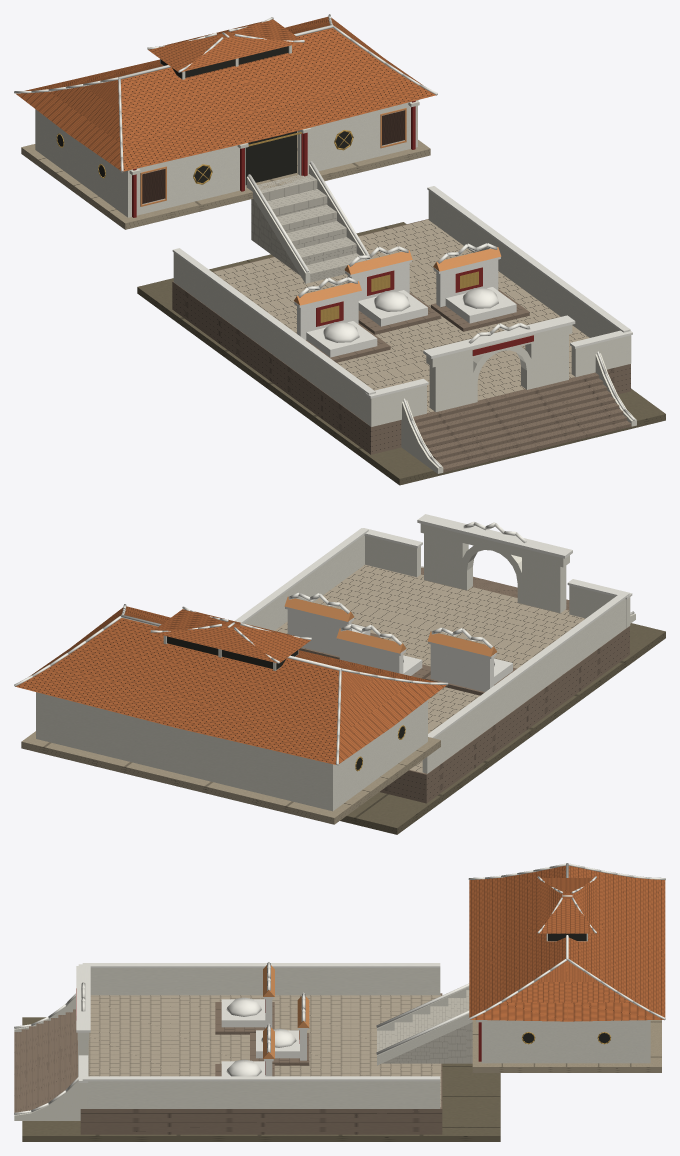
The model's file is thoai-ngoc-hau-mid.glb.
The picture shows the model from 3 angles, top to bottom: view 1: azimuth 30°, elevation 25°; view 2: azimuth 150°, elevation 25°; view 3: azimuth 270°, elevation 25°; orthographic projection. The views are drawn at different scales.
Visible parts, largest first — view 1: thoai-ngoc-hau-mid; view 2: thoai-ngoc-hau-mid; view 3: thoai-ngoc-hau-mid.
Boxes of the visible parts, bbox=[...] form: thoai-ngoc-hau-mid: bbox=[14, 14, 665, 485]; thoai-ngoc-hau-mid: bbox=[14, 514, 665, 834]; thoai-ngoc-hau-mid: bbox=[14, 863, 665, 1141].
Size of the model in its own units: 20.23 by 12.36 by 39.55.
Materials: 1 (1 with a texture image).
